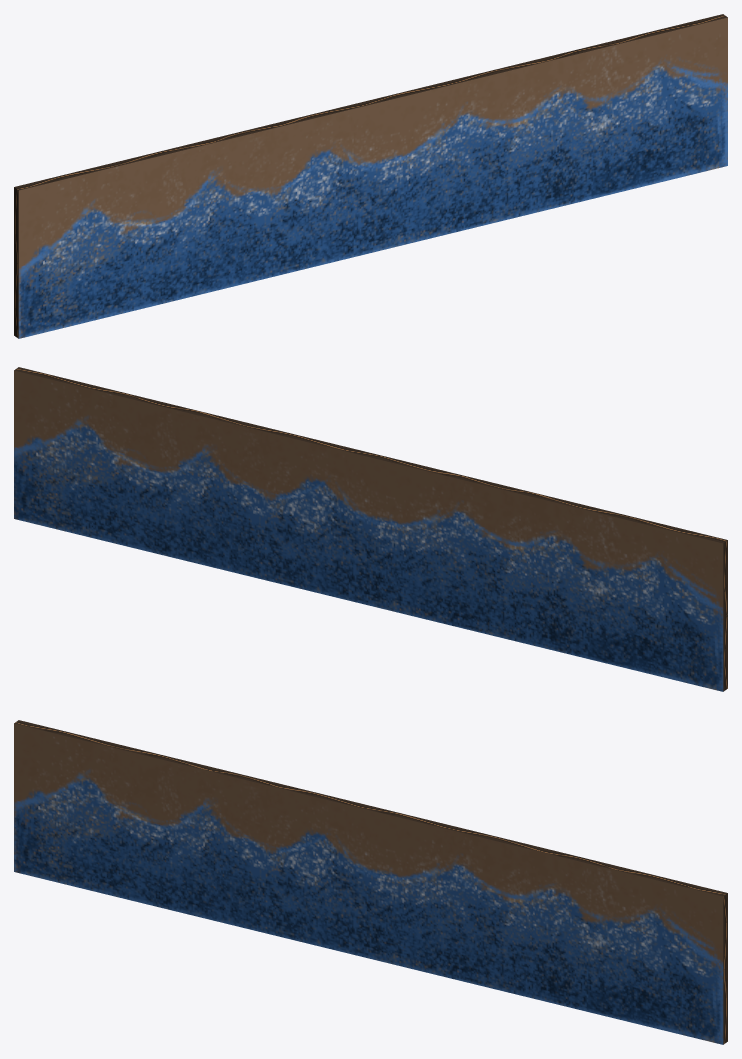
File: WaveBox.fbx
3 renders of one model, top to bottom at view 1: azimuth 30°, elevation 25°; view 2: azimuth 150°, elevation 25°; view 3: azimuth 330°, elevation 25°, orthographic.
Visible parts, largest first — view 1: WaveBox; view 2: WaveBox; view 3: WaveBox.
Boxes of the visible parts, <box> form: WaveBox: <box>14,14,727,338</box>; WaveBox: <box>14,367,727,691</box>; WaveBox: <box>14,720,727,1044</box>.
Size of the model in its own units: 10 by 2 by 0.116.
